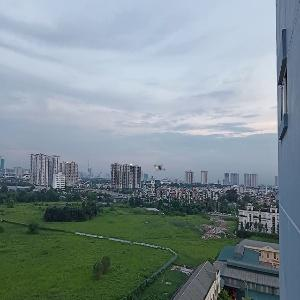drone: (148, 155, 175, 182)
